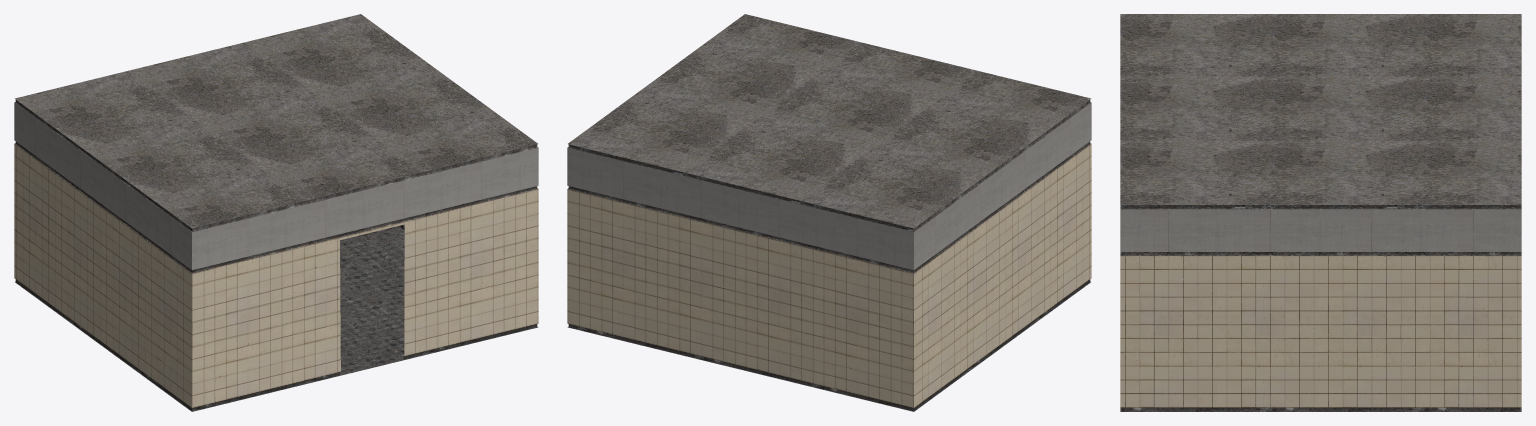
The model's file is Room_02.FBX.
3 renders of one model, left to right at view 1: azimuth 30°, elevation 25°; view 2: azimuth 150°, elevation 25°; view 3: azimuth 270°, elevation 25°, orthographic. The views are drawn at different scales.
Parts seen in each view (by area): view 1: Room2; view 2: Room2; view 3: Room2.
Part boxes in pixels (box(x1,y1,x2,y2)): Room2: box(14, 14, 538, 411); Room2: box(567, 14, 1091, 411); Room2: box(1120, 14, 1521, 411).
Bounding box in the file's own units: 175 × 88.58 × 155.
